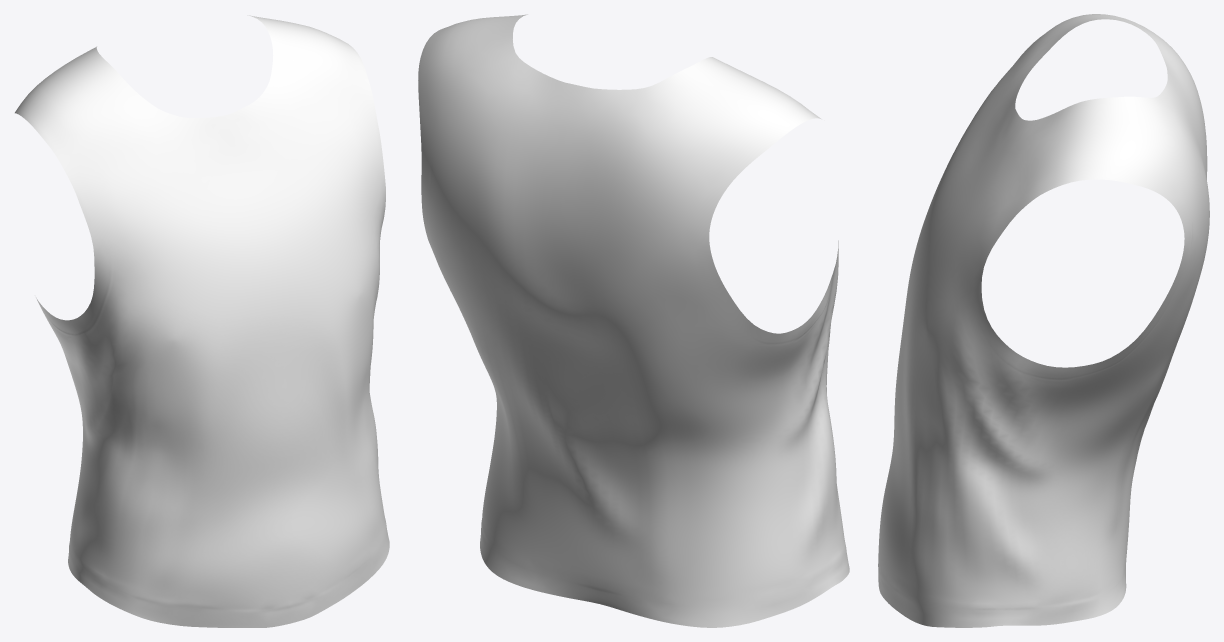
Rendered from sleeveless-jersey.glb.
3 views of the same model, side by side, from view 1: azimuth 30°, elevation 25°; view 2: azimuth 150°, elevation 25°; view 3: azimuth 270°, elevation 25° (orthographic). The views are drawn at different scales.
Visible parts, largest first — view 1: Dress_1_Group6255; view 2: Dress_1_Group6255; view 3: Dress_1_Group6255.
Boxes of the visible parts, bbox=[...] form: Dress_1_Group6255: bbox=[15, 15, 389, 627]; Dress_1_Group6255: bbox=[418, 14, 849, 627]; Dress_1_Group6255: bbox=[878, 14, 1209, 627].
Size of the model in its own units: 1.51 by 2.27 by 1.31.
Materials: 4 (4 with a texture image).
